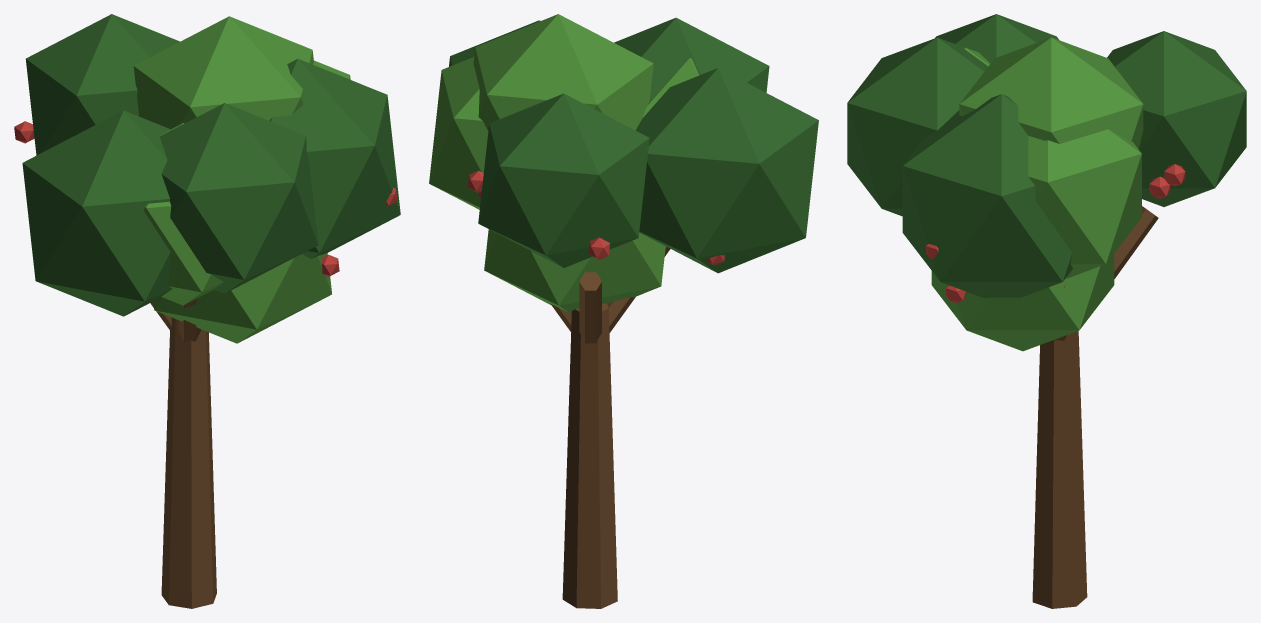
The model's file is arbre_prairie_3.glb.
3 renders of one model, left to right at view 1: azimuth 30°, elevation 25°; view 2: azimuth 150°, elevation 25°; view 3: azimuth 270°, elevation 25°, orthographic.
Visible parts, largest first — view 1: feuillage_feuille_sombre.012, feuillage_feuille.012, tronc.012, fruits_rouge.002, branches_ecorce.006; view 2: feuillage_feuille_sombre.012, feuillage_feuille.012, tronc.012, branches_ecorce.006, fruits_rouge.002; view 3: feuillage_feuille_sombre.012, feuillage_feuille.012, tronc.012, fruits_rouge.002, branches_ecorce.006.
Boxes of the visible parts, x1,y1,x2,y2 form: feuillage_feuille_sombre.012: (22, 14, 400, 316); feuillage_feuille.012: (133, 16, 350, 343); tronc.012: (161, 317, 216, 608); fruits_rouge.002: (14, 121, 397, 276); branches_ecorce.006: (150, 298, 200, 341); feuillage_feuille_sombre.012: (449, 17, 818, 273); feuillage_feuille.012: (429, 14, 698, 312); tronc.012: (562, 303, 617, 608); branches_ecorce.006: (551, 246, 670, 343); fruits_rouge.002: (467, 170, 724, 265); feuillage_feuille_sombre.012: (847, 14, 1246, 298); feuillage_feuille.012: (931, 37, 1143, 351); tronc.012: (1032, 331, 1087, 608); fruits_rouge.002: (926, 164, 1185, 302); branches_ecorce.006: (1055, 206, 1158, 340).
Bounding box in the file's own units: 2.15 × 3.34 × 2.09.
